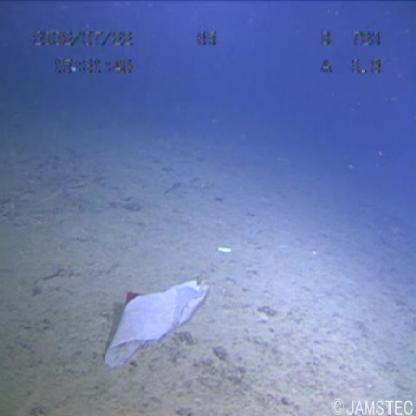Rác: (103, 271, 217, 387)
